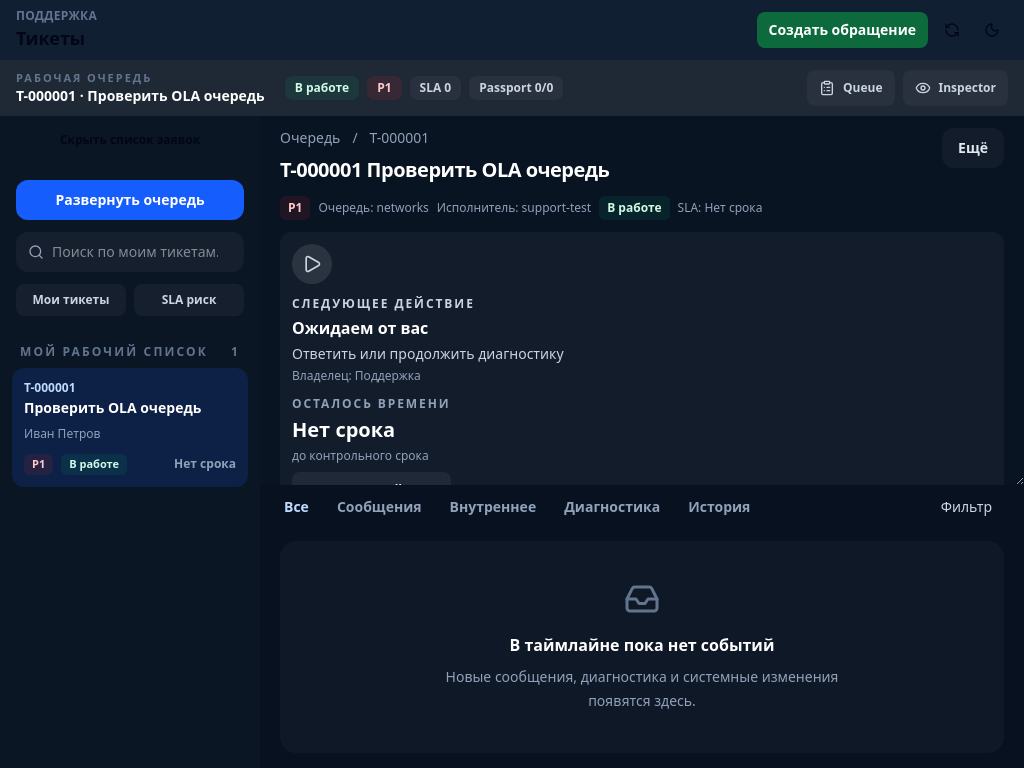
Scenario: TicketListPage › persists the support workspace theme toggle
expect the text "Проверить OLA очередь" is shown: met, box [24,398,201,418]
Click the button named "Тёмная тема" at x=992, y=30, box [976,14,1008,46]
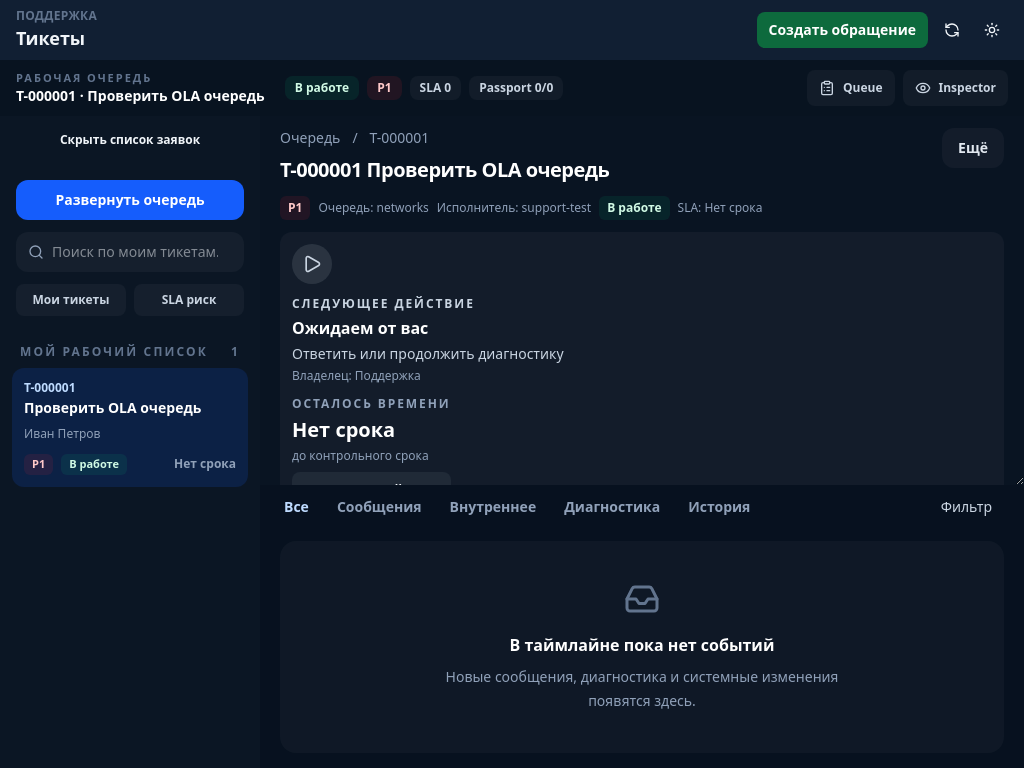
expect the button named "Светлая тема" is shown: met, box [976,14,1008,46]
